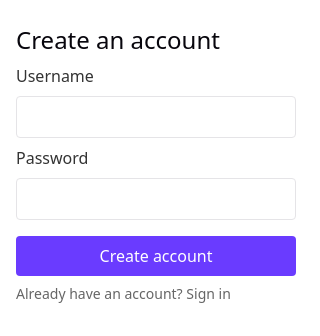
Register form › shows the backend error and stays on the page when the username is taken
Step 1. Type "newuser" into the field labelled "Username" → (156, 117), box [16,96,296,138]
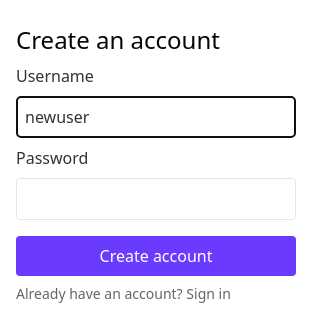
Step 2. Type "a-long-enough-password" into the password field labelled "Password" → (156, 199), box [16,178,296,220]
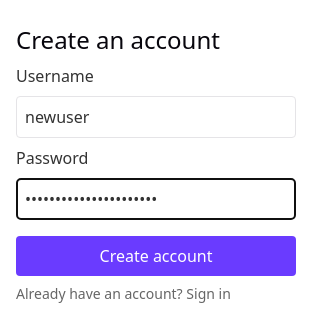
Step 3. Click the button "Create account" → (156, 256), box [16,236,296,276]
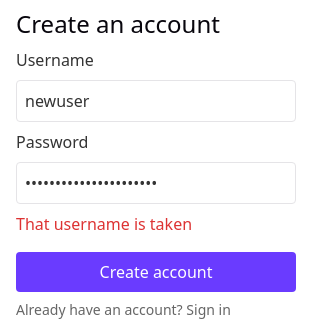
Expected: the message reads "That username is taken", [16,213,192,235]
